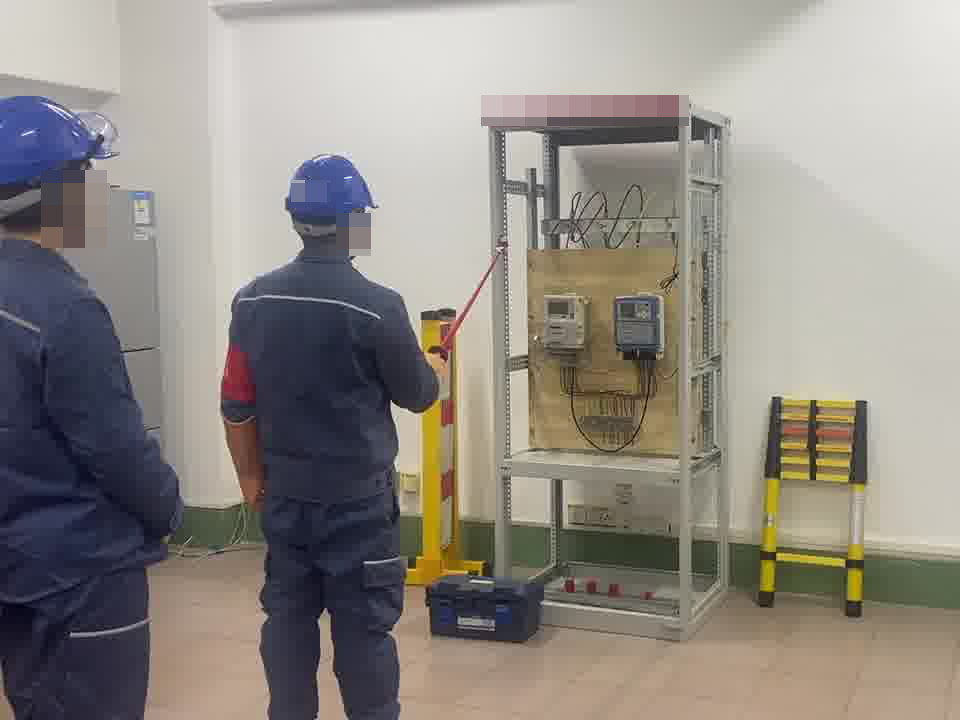badge: (219, 340, 259, 406)
downsuit: (250, 493, 413, 720), (1, 574, 158, 720)
halt: (1, 96, 114, 252), (285, 153, 378, 255)
inear: (49, 181, 92, 230), (335, 208, 365, 252)
longglove: (221, 426, 265, 511)
person: (216, 148, 445, 720), (1, 90, 195, 720)
testrod: (427, 242, 509, 362)
upsuit: (1, 232, 184, 604), (219, 253, 439, 487)
